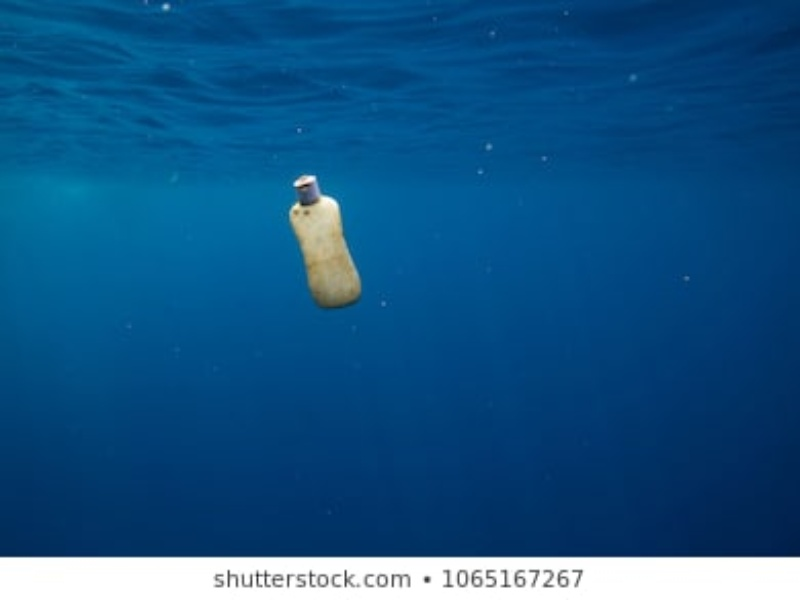shampoo-bottle: (282, 174, 366, 309)
